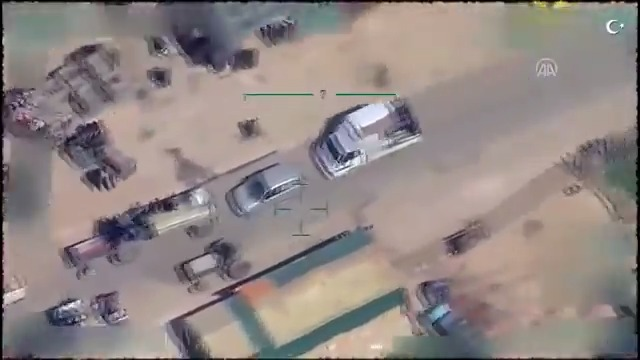arac: (62, 178, 223, 279), (308, 91, 425, 179), (225, 146, 306, 222), (174, 232, 264, 288)
